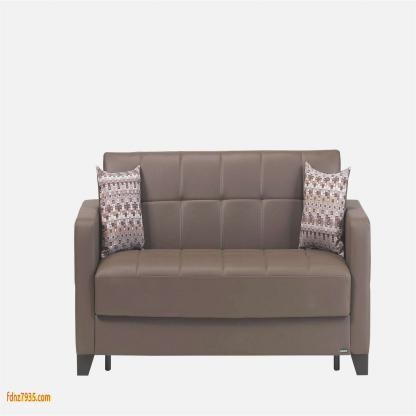sova: (68, 141, 375, 382)
